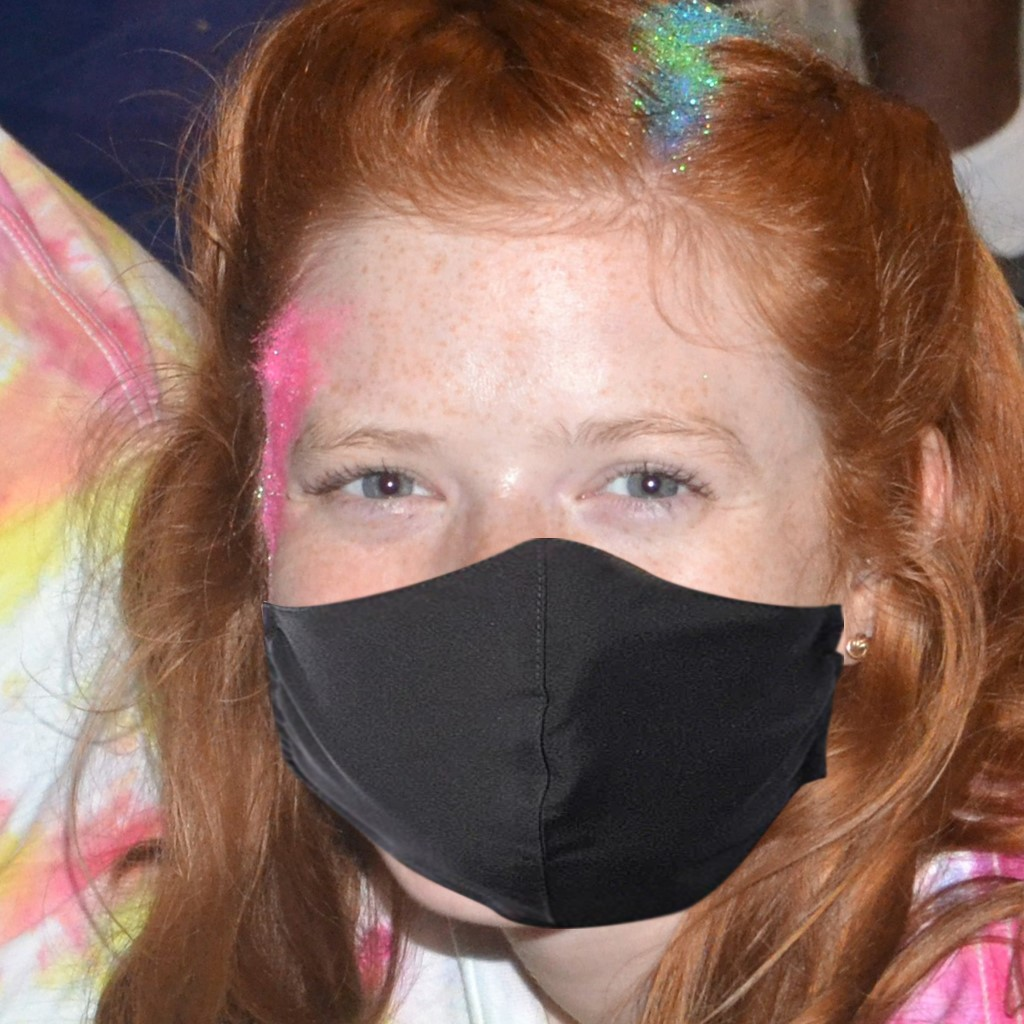con_mascara: (281, 146, 866, 926)
